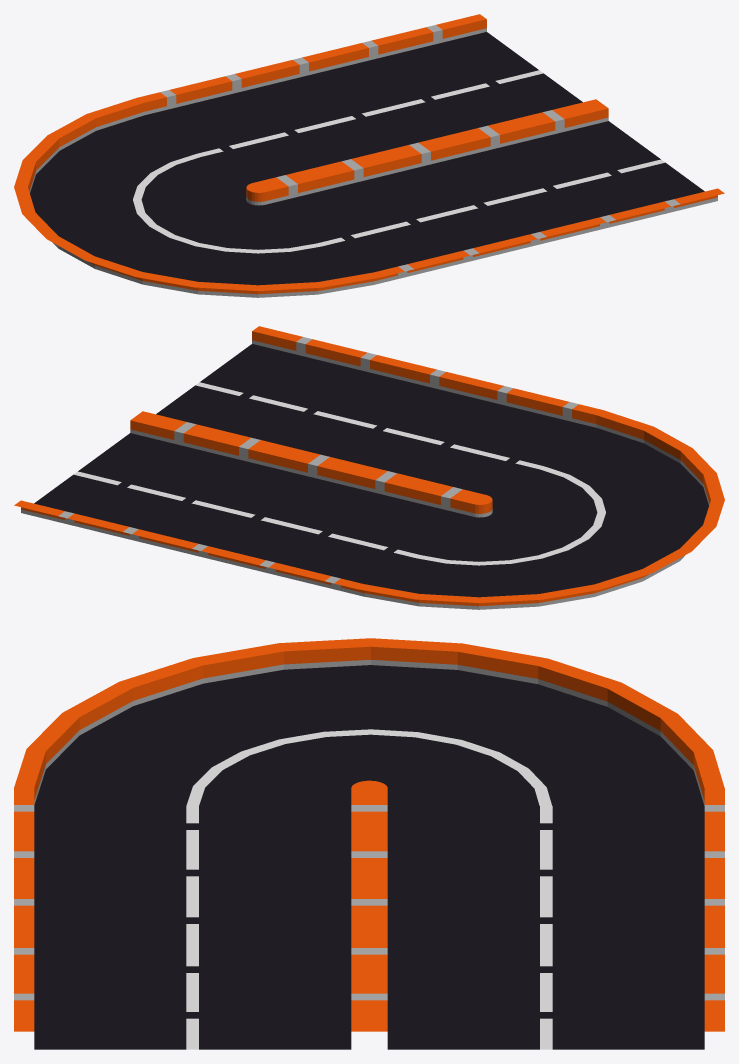
Rendered from TurnRoad.fbx.
The picture shows the model from 3 angles, top to bottom: view 1: azimuth 30°, elevation 25°; view 2: azimuth 150°, elevation 25°; view 3: azimuth 270°, elevation 25°; orthographic projection. The views are drawn at different scales.
Visible parts, largest first — view 1: Plane.002, Plane.003; view 2: Plane.002, Plane.003; view 3: Plane.002, Plane.003.
Boxes of the visible parts, bbox=[...] form: Plane.002: bbox=[14, 97, 724, 297]; Plane.003: bbox=[138, 14, 601, 189]; Plane.002: bbox=[136, 326, 724, 609]; Plane.003: bbox=[14, 415, 480, 596]; Plane.002: bbox=[14, 638, 724, 1049]; Plane.003: bbox=[367, 788, 724, 1049].
Size of the model in its own units: 3229 by 70 by 2467.
